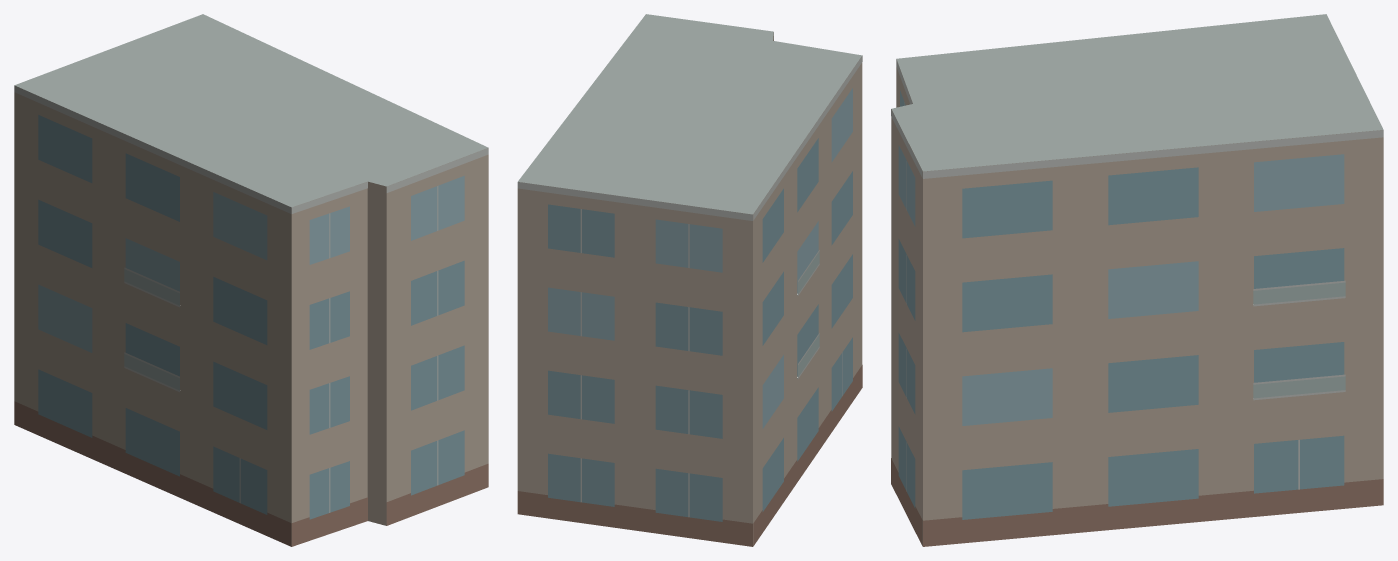
File: survey-upis-32916345.glb
The picture shows the model from 3 angles, left to right: view 1: azimuth 30°, elevation 25°; view 2: azimuth 150°, elevation 25°; view 3: azimuth 270°, elevation 25°; orthographic projection. The views are drawn at different scales.
Visible parts, largest first — view 1: survey-upis-32916345.tmp; view 2: survey-upis-32916345.tmp; view 3: survey-upis-32916345.tmp.
Boxes of the visible parts, x1,y1,x2,y2 form: survey-upis-32916345.tmp: [14, 14, 488, 546]; survey-upis-32916345.tmp: [517, 14, 862, 546]; survey-upis-32916345.tmp: [891, 14, 1383, 546].
Size of the model in its own units: 10.99 by 12.2 by 14.51.
